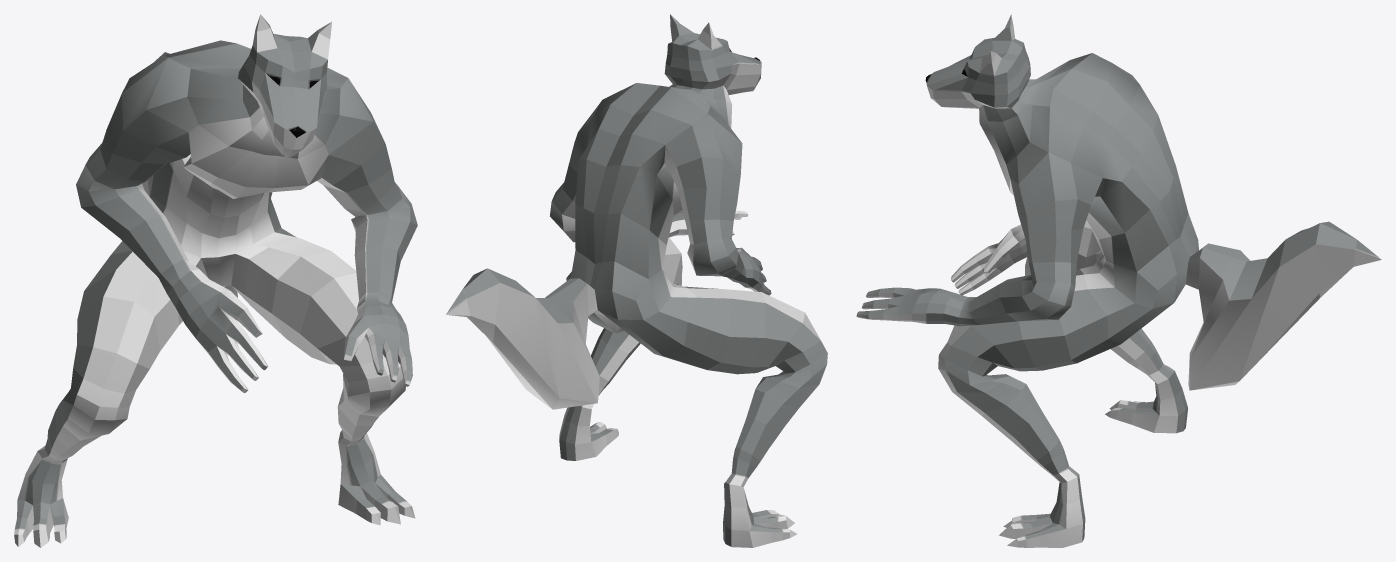
The model's file is WolfAttack(103).obj.
3 views of the same model, side by side, from view 1: azimuth 30°, elevation 25°; view 2: azimuth 150°, elevation 25°; view 3: azimuth 270°, elevation 25° (orthographic). The views are drawn at different scales.
Parts seen in each view (by area): view 1: Box001; view 2: Box001; view 3: Box001.
Boxes of the visible parts, x1,y1,x2,y2 form: Box001: (14,14,417,547); Box001: (446,14,827,547); Box001: (856,14,1381,547).
Bounding box in the file's own units: 79.84 × 119 × 121.
